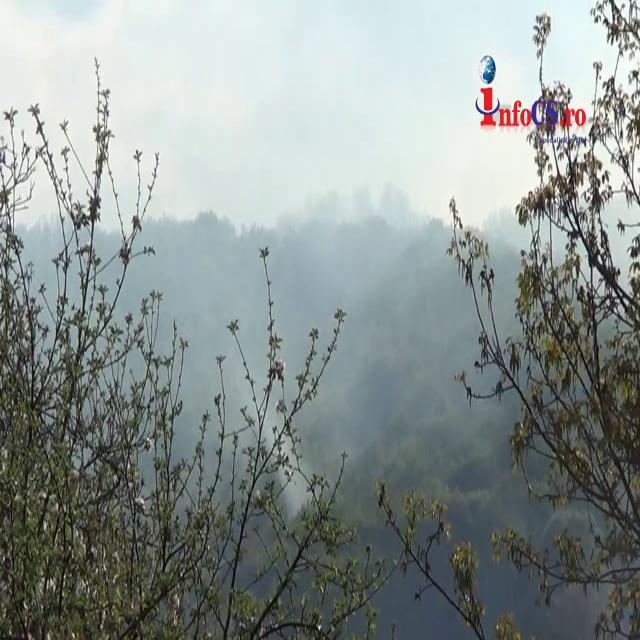Smoke: (272, 126, 466, 514)
